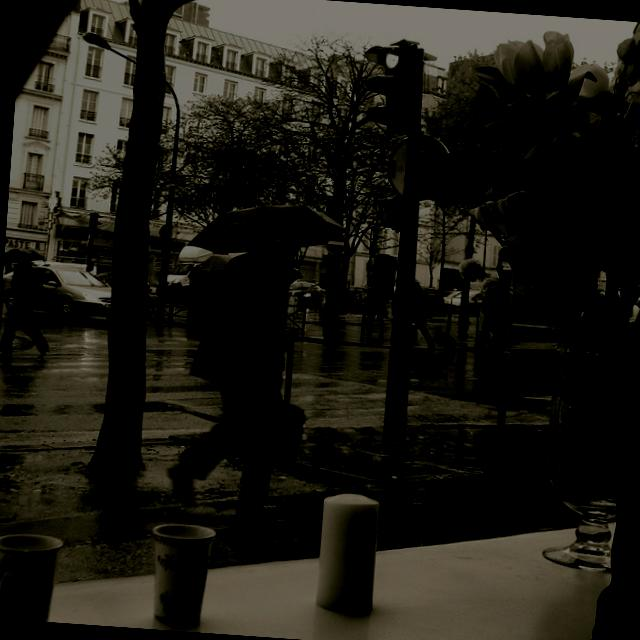Vehicle: (23, 258, 112, 320), (164, 260, 203, 305), (288, 282, 326, 296), (297, 290, 326, 308), (440, 289, 461, 311), (466, 288, 484, 313)
